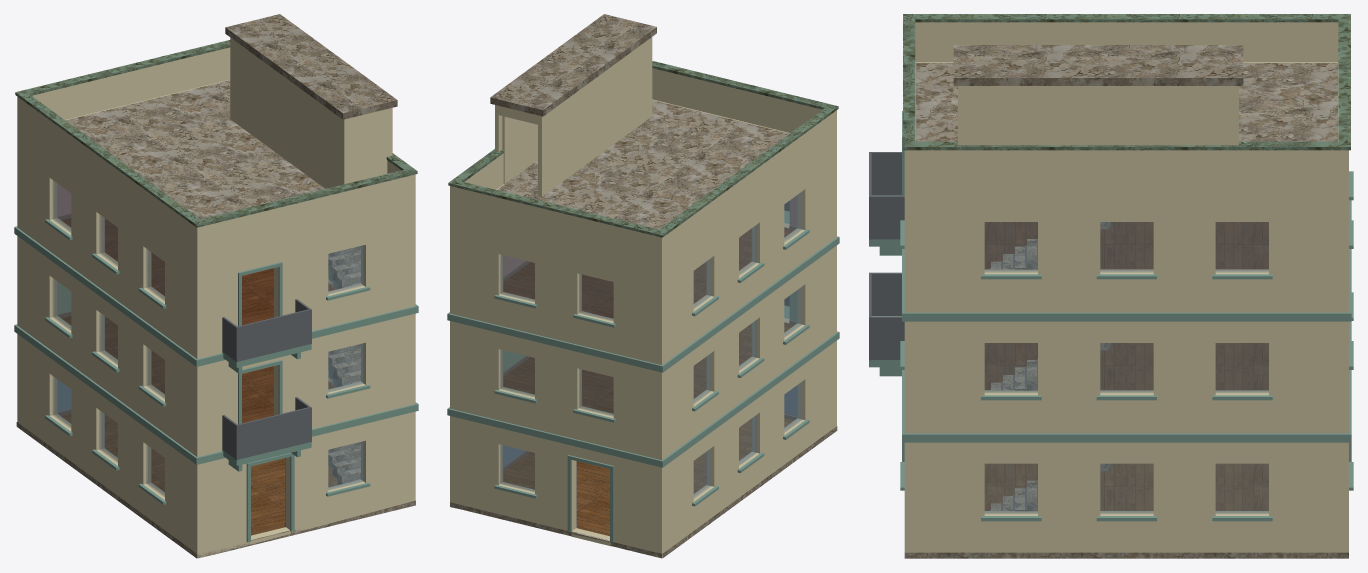
File: bay-townhouse-yellow.zfix-v7.lod0.glb
3 renders of one model, left to right at view 1: azimuth 30°, elevation 25°; view 2: azimuth 150°, elevation 25°; view 3: azimuth 270°, elevation 25°, orthographic. The views are drawn at different scales.
Visible parts, largest first — view 1: bay-townhouse-yellow; view 2: bay-townhouse-yellow; view 3: bay-townhouse-yellow.
Boxes of the visible parts, x1,y1,x2,y2 form: bay-townhouse-yellow: (14,14,418,558); bay-townhouse-yellow: (447,14,839,558); bay-townhouse-yellow: (869,14,1353,558).
Bounding box in the file's own units: 7.2 × 11.96 × 10.91.
Materials: 4 (2 with a texture image).
